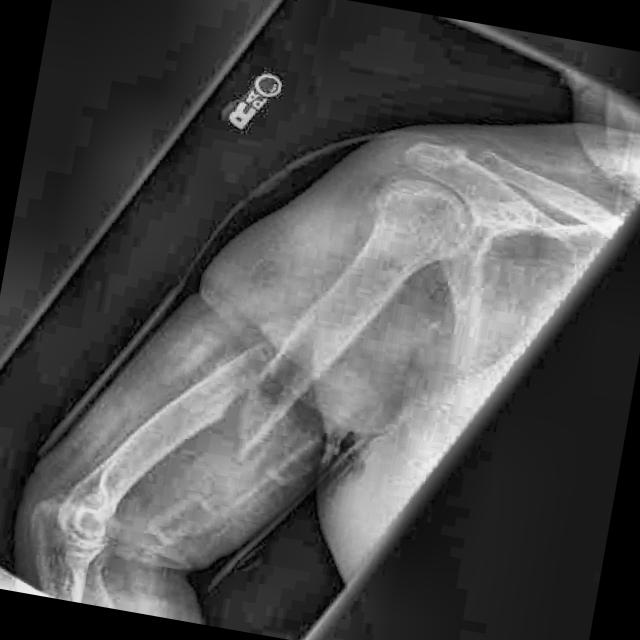humerus: (135, 292, 377, 496)
